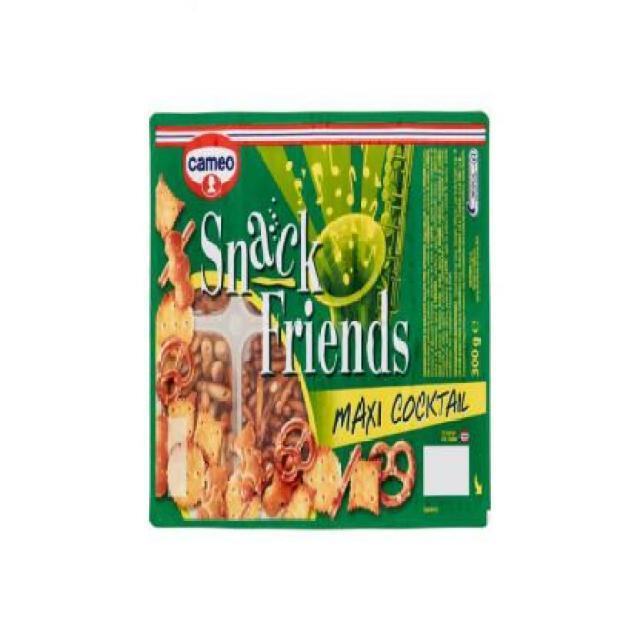Salatini: (140, 99, 498, 538)
